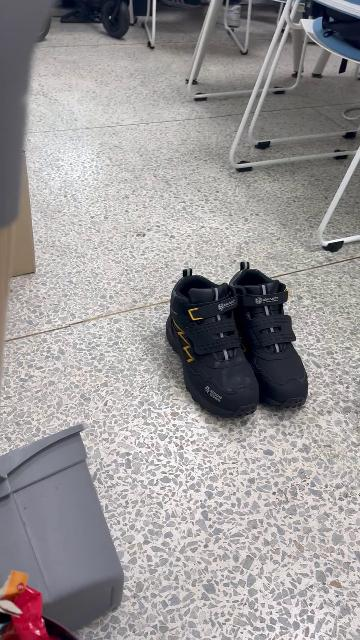shoe_worn: (169, 267, 259, 417), (230, 264, 311, 411)
